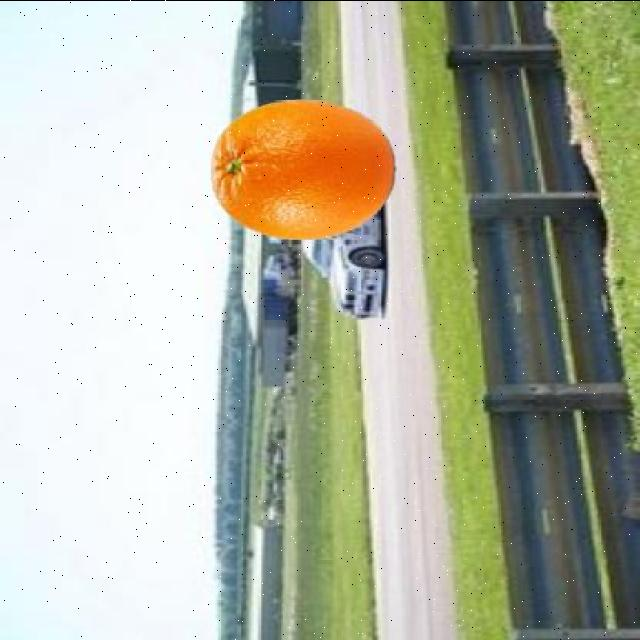Orange: (208, 98, 396, 242)
